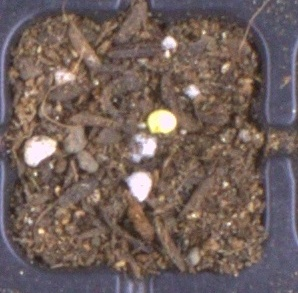chilli seed: (147, 109, 177, 134)
